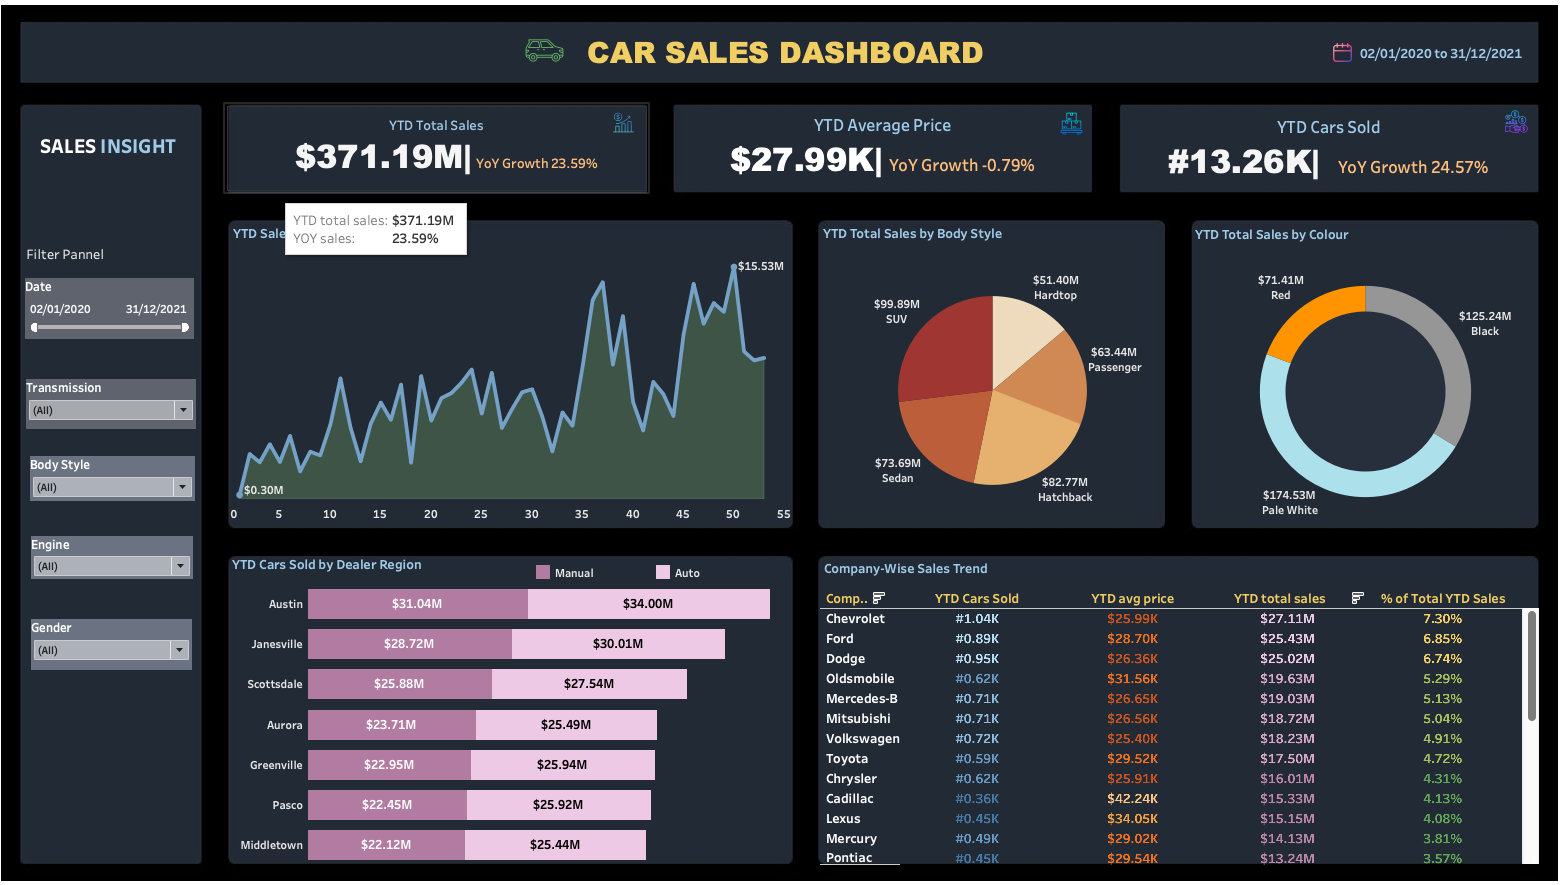

The dashboard page shown, as its layout file describes it:
{"tool":"tableau","page":{"name":"Dashboard 1","canvas":[1600,900],"ordinal":0},"visuals":[{"type":"image","param":"/Users/frdwish/Desktop/img/Car Sales Background.jpg","box":[8,8,1584,884]},{"type":"text","box":[496,31,620,55]},{"type":"image","param":"/Users/frdwish/Desktop/img/Car Icon.png","box":[534,35,61,45]},{"type":"image","param":"/Users/frdwish/Desktop/img/calendar.png","box":[1351,49,24,21]},{"type":"worksheet","title":"YTD Total Sales","mark":"Automatic","box":[245,111,423,88]},{"type":"worksheet","title":"YTD Avg Price","mark":"Automatic","box":[692,112,422,86]},{"type":"worksheet","title":"YTD Car Sold","mark":"Automatic","box":[1141,113,416,88]},{"type":"image","param":"/Users/frdwish/Desktop/img/Cars Sold Icon.png","box":[1521,117,31,23]},{"type":"image","param":"/Users/frdwish/Desktop/img/Sales Icon.png","box":[628,118,31,23]},{"type":"image","param":"/Users/frdwish/Desktop/img/Avg Price Icon.png","box":[1076,119,31,23]},{"type":"text","box":[58,137,140,30]},{"type":"worksheet","title":"YTD Sales Weekly Trend","mark":"Area","rows":["Calculation_1621489315168258","Calculation_1621489315168258"],"cols":["Date"],"box":[249,227,565,309]},{"type":"worksheet","title":"YTD Total Sales by Body Style","mark":"Pie","box":[839,227,347,308]},{"type":"worksheet","title":"YTD Total Sales by Colour","mark":"Pie","rows":["Calculation_0234868718514180","Calculation_0234868718538758"],"box":[1211,228,349,308]},{"type":"text","box":[44,246,140,30]},{"type":"filter","title":"YTD Sales Weekly Trend","param":"[federated.1ftlck303zhclb11st4fs1moz85h].[none:Date:qk]","box":[45,285,169,61]},{"type":"filter","title":"YTD Sales Weekly Trend","param":"[federated.1ftlck303zhclb11st4fs1moz85h].[none:Transmission:nk]","box":[46,386,170,50]},{"type":"filter","title":"YTD Sales Weekly Trend","param":"[federated.1ftlck303zhclb11st4fs1moz85h].[none:Body Style:nk]","box":[50,463,165,45]},{"type":"filter","title":"YTD Sales Weekly Trend","param":"[federated.1ftlck303zhclb11st4fs1moz85h].[none:Engine:nk]","box":[51,543,162,43]},{"type":"worksheet","title":"YTD Cars Sold by Dealer Region","mark":"Bar","rows":["Dealer_Region"],"cols":["Calculation_1621489315168258"],"box":[248,558,565,314]},{"type":"worksheet","title":"Company-Wise Sales Trend","mark":"Automatic","rows":["Company"],"box":[840,562,719,310]},{"type":"legend","title":"YTD Cars Sold by Dealer Region","param":"[federated.1ftlck303zhclb11st4fs1moz85h].[none:Transmission:nk]","box":[553,569,257,22]},{"type":"filter","title":"YTD Sales Weekly Trend","param":"[federated.1ftlck303zhclb11st4fs1moz85h].[none:Gender:nk]","box":[51,626,161,51]}]}

Visuals, with their boxes in screenshot pixels (x1, y1, x2, y2), scaled from the page's 1600x900 canvas onto the 1563x885 screenshot:
image: (left=8, top=8, right=1555, bottom=877)
text: (left=485, top=30, right=1090, bottom=85)
image: (left=522, top=34, right=581, bottom=79)
image: (left=1320, top=48, right=1343, bottom=69)
"YTD Total Sales" worksheet: (left=239, top=109, right=653, bottom=196)
"YTD Avg Price" worksheet: (left=676, top=110, right=1088, bottom=195)
"YTD Car Sold" worksheet: (left=1115, top=111, right=1521, bottom=198)
image: (left=1486, top=115, right=1516, bottom=138)
image: (left=613, top=116, right=644, bottom=139)
image: (left=1051, top=117, right=1081, bottom=140)
text: (left=57, top=135, right=193, bottom=164)
"YTD Sales Weekly Trend" worksheet (Area marks): (left=243, top=223, right=795, bottom=527)
"YTD Total Sales by Body Style" worksheet (Pie marks): (left=820, top=223, right=1159, bottom=526)
"YTD Total Sales by Colour" worksheet (Pie marks): (left=1183, top=224, right=1524, bottom=527)
text: (left=43, top=242, right=180, bottom=271)
"YTD Sales Weekly Trend" filter: (left=44, top=280, right=209, bottom=340)
"YTD Sales Weekly Trend" filter: (left=45, top=380, right=211, bottom=429)
"YTD Sales Weekly Trend" filter: (left=49, top=455, right=210, bottom=500)
"YTD Sales Weekly Trend" filter: (left=50, top=534, right=208, bottom=576)
"YTD Cars Sold by Dealer Region" worksheet (Bar marks): (left=242, top=549, right=794, bottom=857)
"Company-Wise Sales Trend" worksheet: (left=821, top=553, right=1523, bottom=857)
"YTD Cars Sold by Dealer Region" legend: (left=540, top=560, right=791, bottom=581)
"YTD Sales Weekly Trend" filter: (left=50, top=616, right=207, bottom=666)
